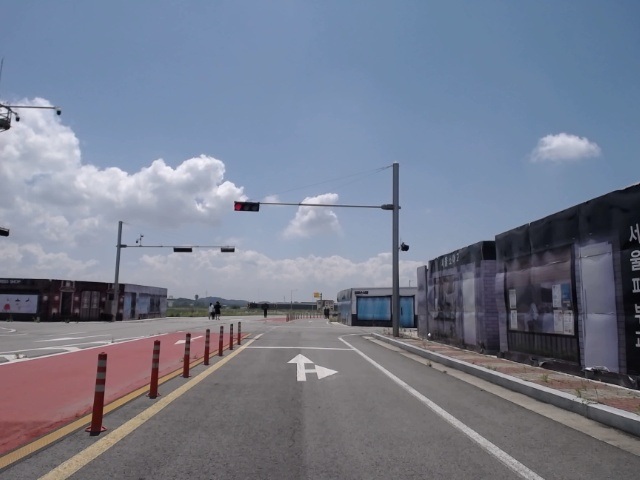red_3: (233, 200, 261, 213)
